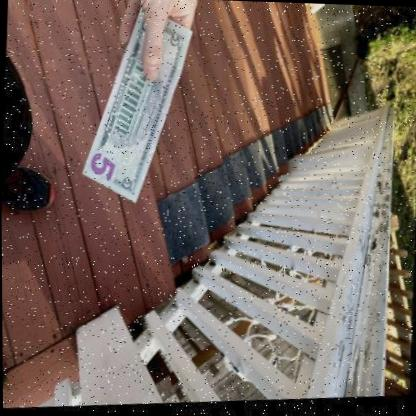five-back: (82, 7, 192, 206)
